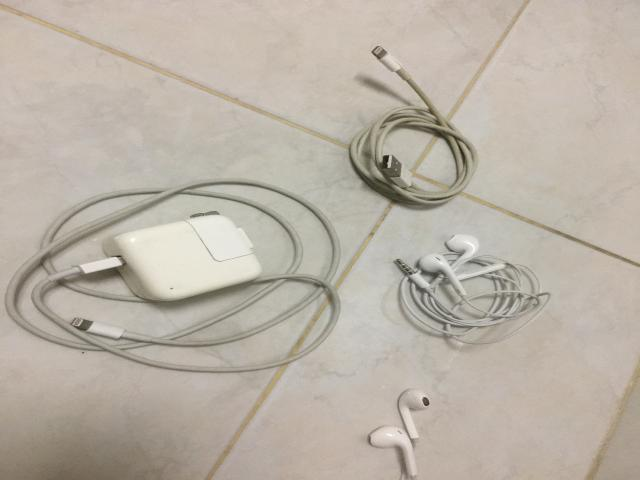wire: (5, 178, 340, 372), (350, 46, 478, 205), (395, 234, 552, 344), (368, 388, 430, 480)
